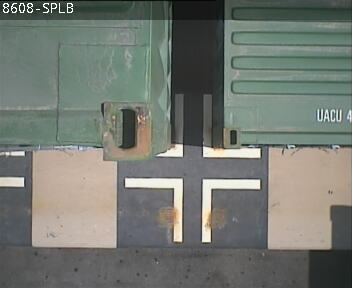groundmarker_1: (125, 177, 260, 241), (154, 93, 261, 157)
